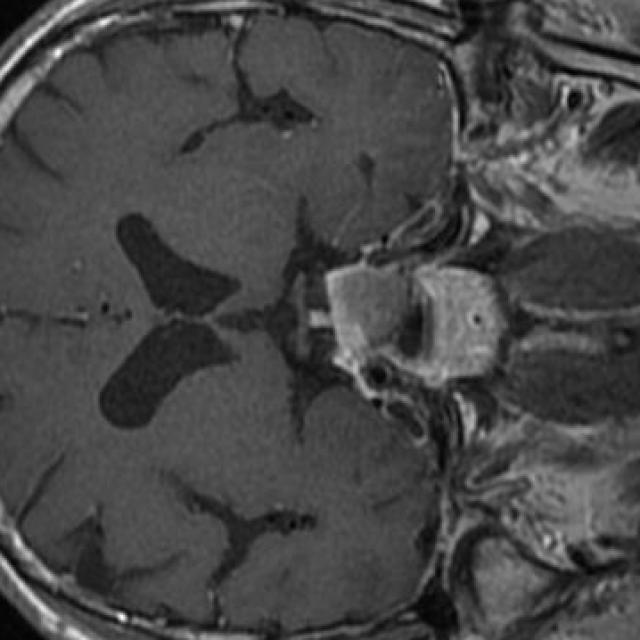pituitary: (310, 262, 403, 373)
